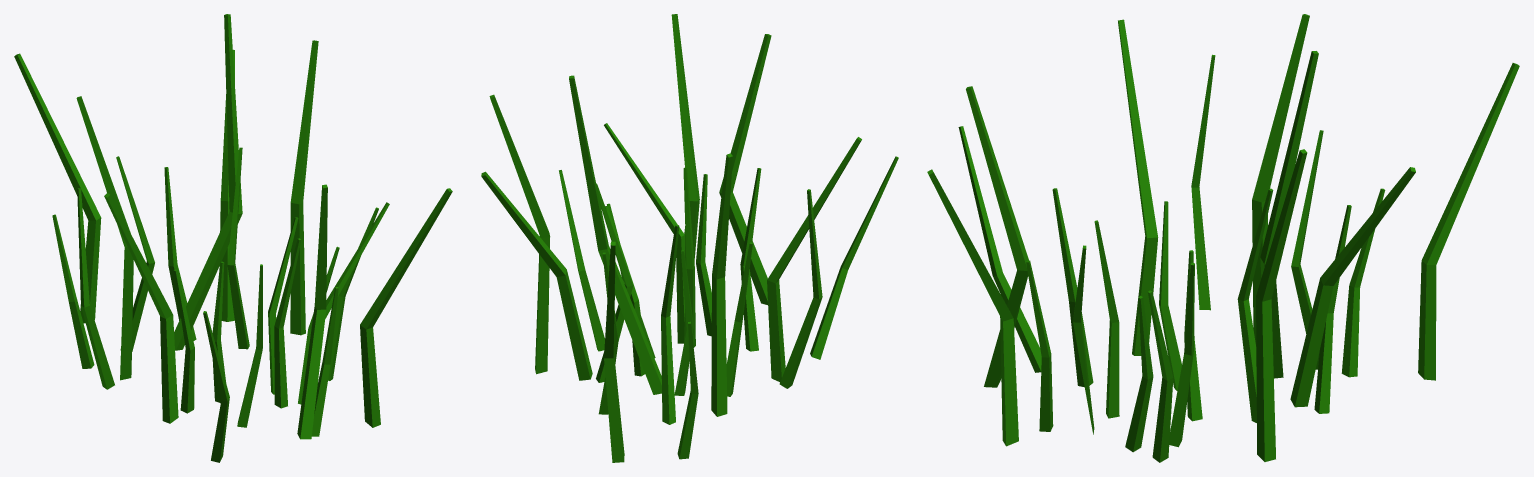
The model's file is Grass.fbx.
3 renders of one model, left to right at view 1: azimuth 30°, elevation 25°; view 2: azimuth 150°, elevation 25°; view 3: azimuth 270°, elevation 25°, orthographic. The views are drawn at different scales.
Visible parts, largest first — view 1: Plane.010; view 2: Plane.010; view 3: Plane.010.
Part boxes in pixels (bbox=[...]): Plane.010: bbox=[14, 14, 452, 462]; Plane.010: bbox=[481, 14, 898, 462]; Plane.010: bbox=[927, 14, 1519, 462].
Bounding box in the file's own units: 101 × 112 × 150.
